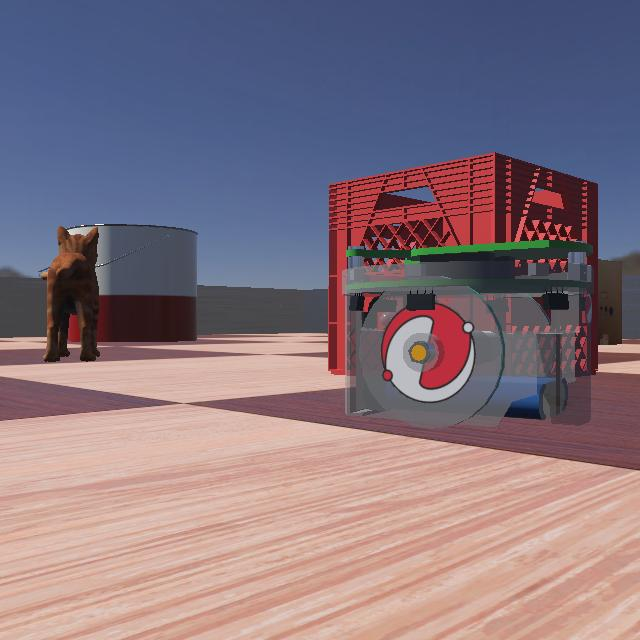cat: (0, 192, 136, 368), (0, 192, 136, 368)
paint-bucket: (1, 218, 208, 344)
